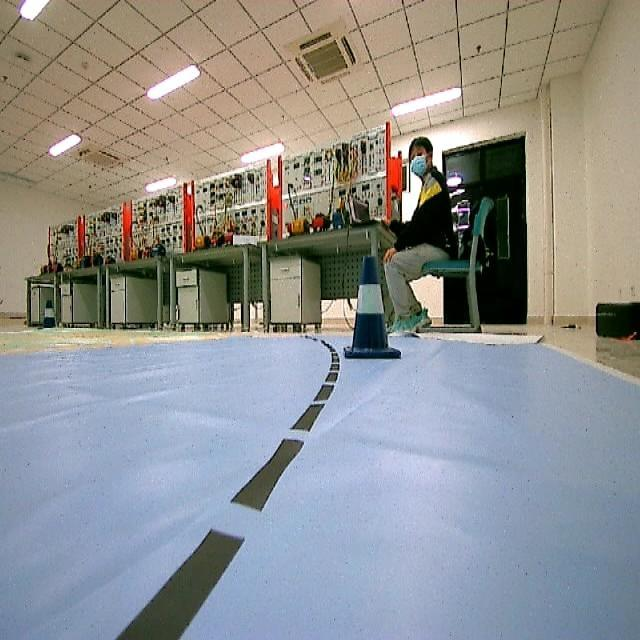obstacle: (345, 250, 402, 360)
